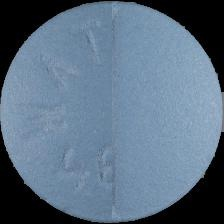55289-093: (0, 0, 224, 224)
